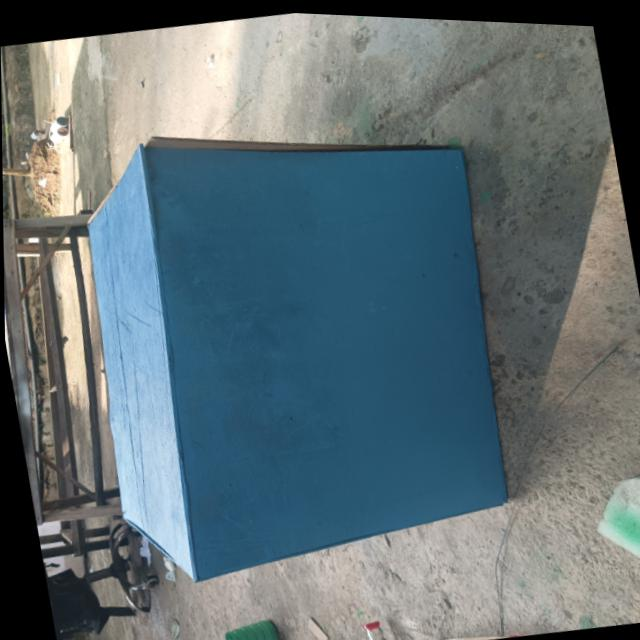blue_box: (63, 88, 521, 599)
